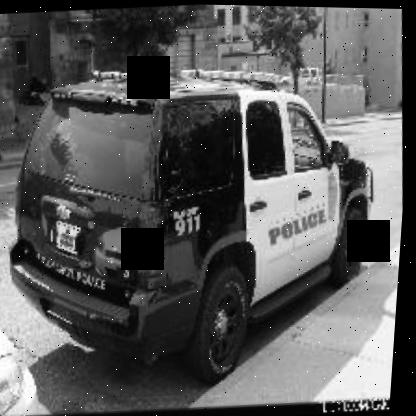emergency: (0, 40, 397, 364)
